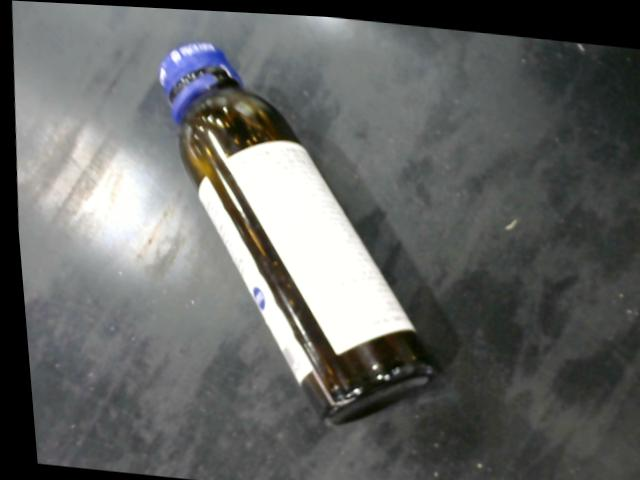glass: (155, 36, 431, 429)
